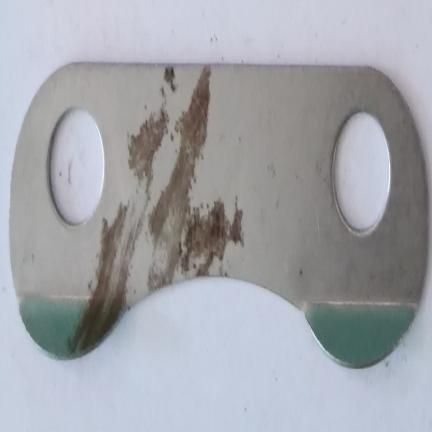besi_tidak_karat: (9, 64, 431, 367)
